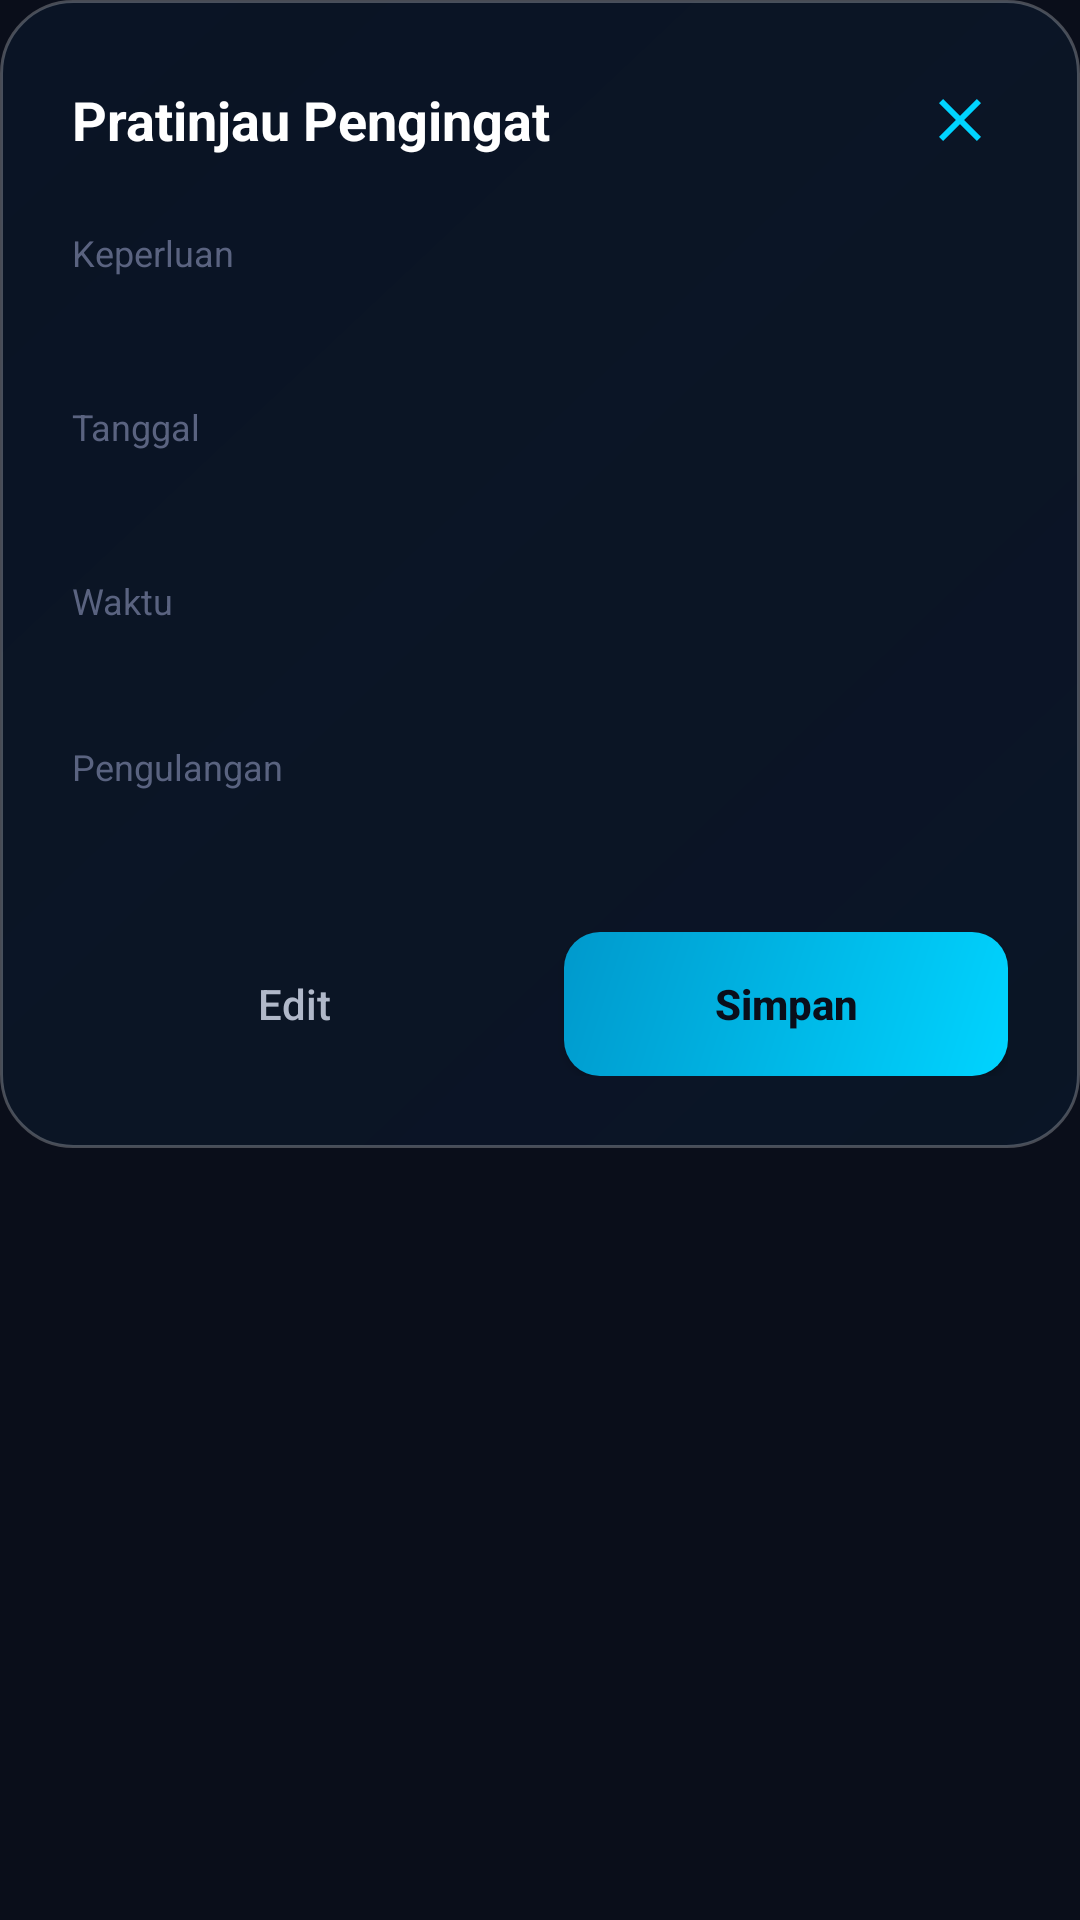

Icon click points for this 1080 × 1920 phone screenshot, format (x,y):
Tutup: (960,120)
